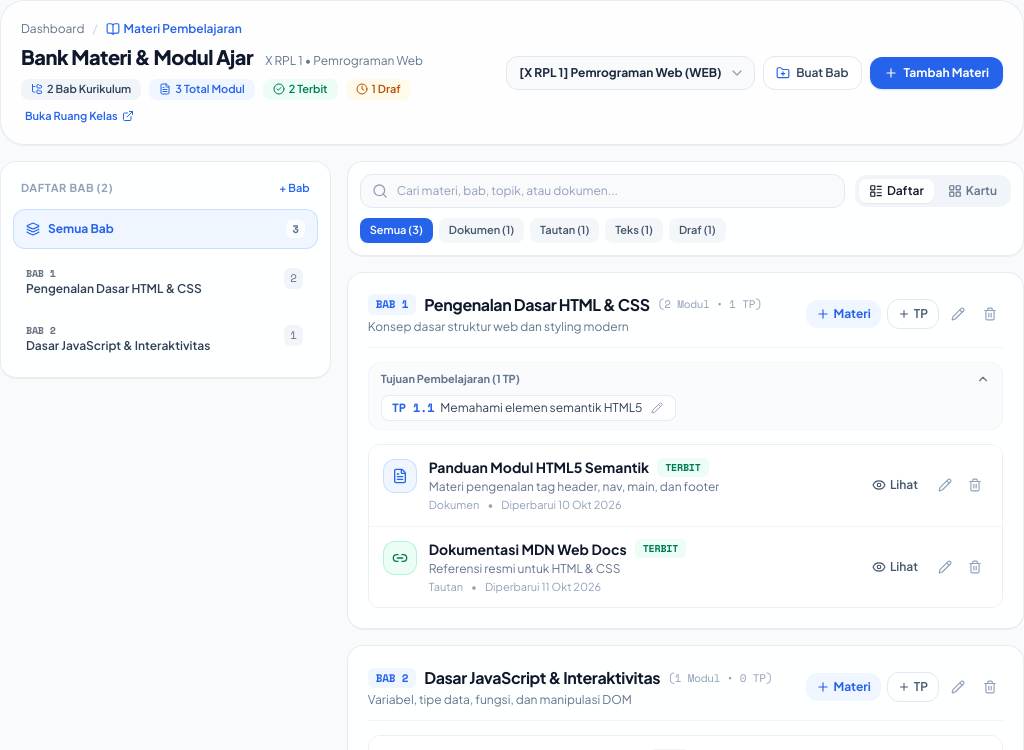
Test: MateriHubView (Chapter-Centric Workspace) › filters materials by type pill
Note: Click Tautan filter pill
Click the button "Tautan (1)" at [565, 230], box [530,218,599,242]
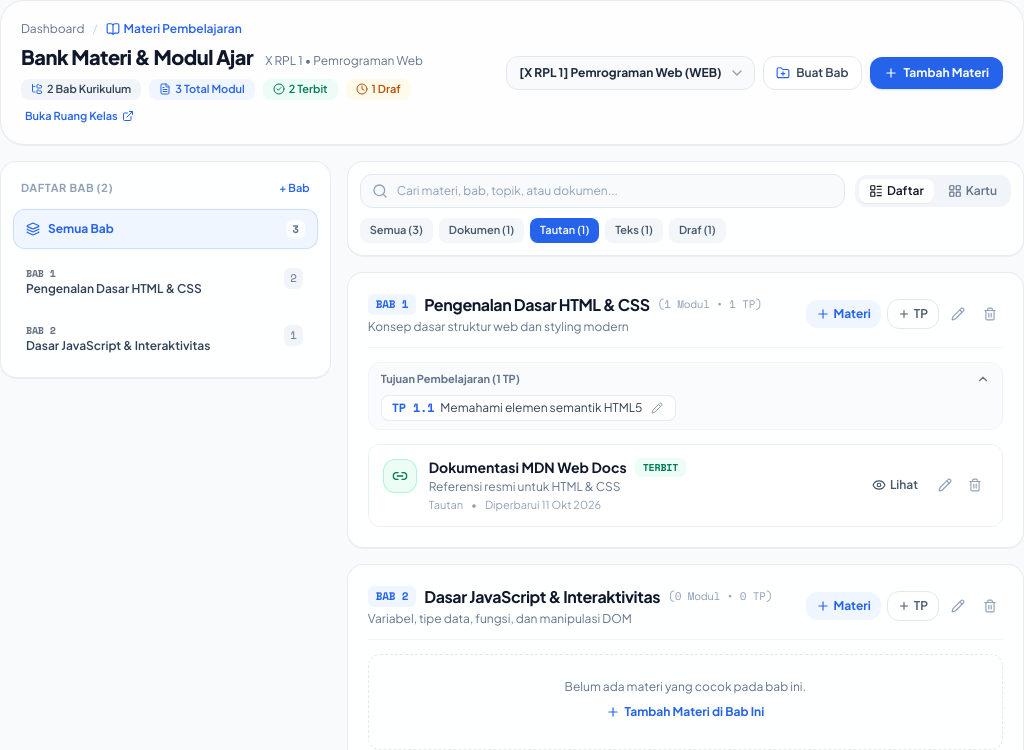
Expected: the heading "Dokumentasi MDN Web Docs" is shown, [429,457,627,477]
Result: the heading "Panduan Modul HTML5 Semantik" is gone
